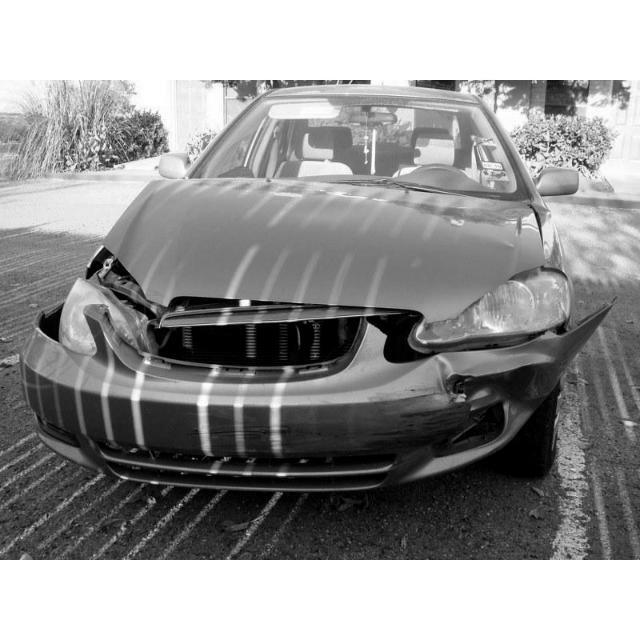bonnet-dent: (110, 181, 541, 315)
front-bumper-dent: (38, 322, 509, 498)
